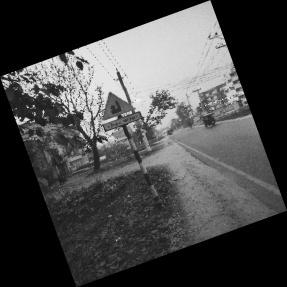Mosque in front: (100, 92, 142, 141)
